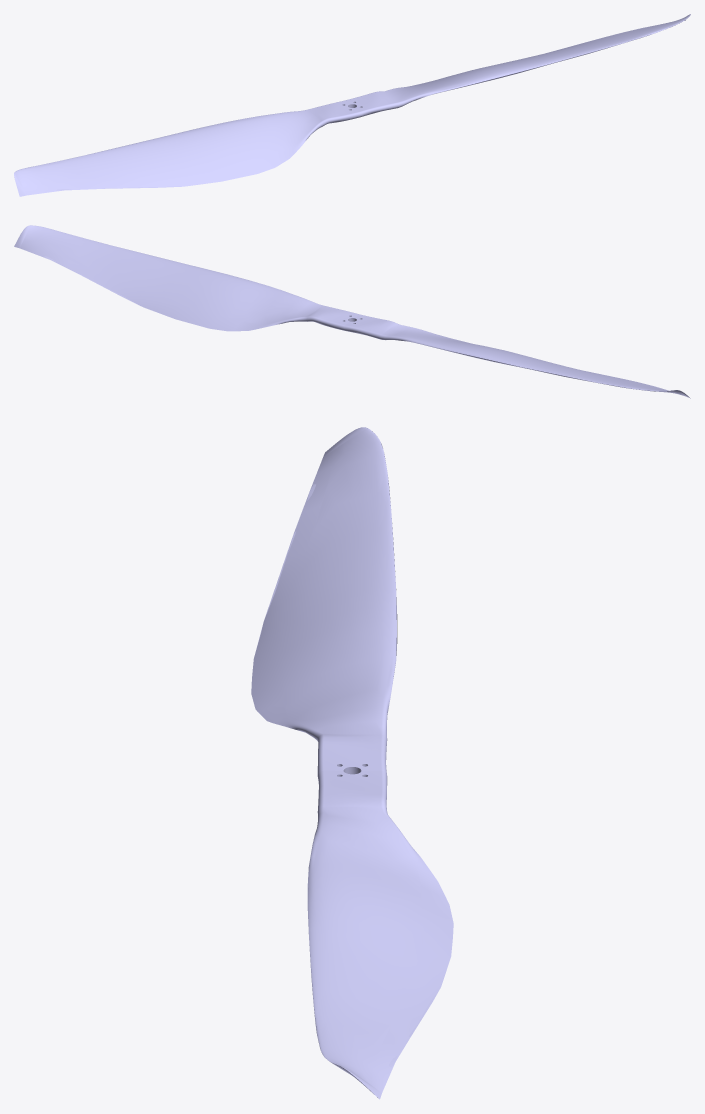
The model's file is t-motor-40x13_CW v1.fbx.
The picture shows the model from 3 angles, top to bottom: view 1: azimuth 30°, elevation 25°; view 2: azimuth 150°, elevation 25°; view 3: azimuth 270°, elevation 25°; orthographic projection. The views are drawn at different scales.
Parts seen in each view (by area): view 1: Body1; view 2: Body1; view 3: Body1.
Part boxes in pixels (<box>): Body1: <box>14,14,690,196</box>; Body1: <box>14,225,690,398</box>; Body1: <box>251,427,453,1099</box>.
Size of the model in its own units: 1036 by 46.4 by 137.
